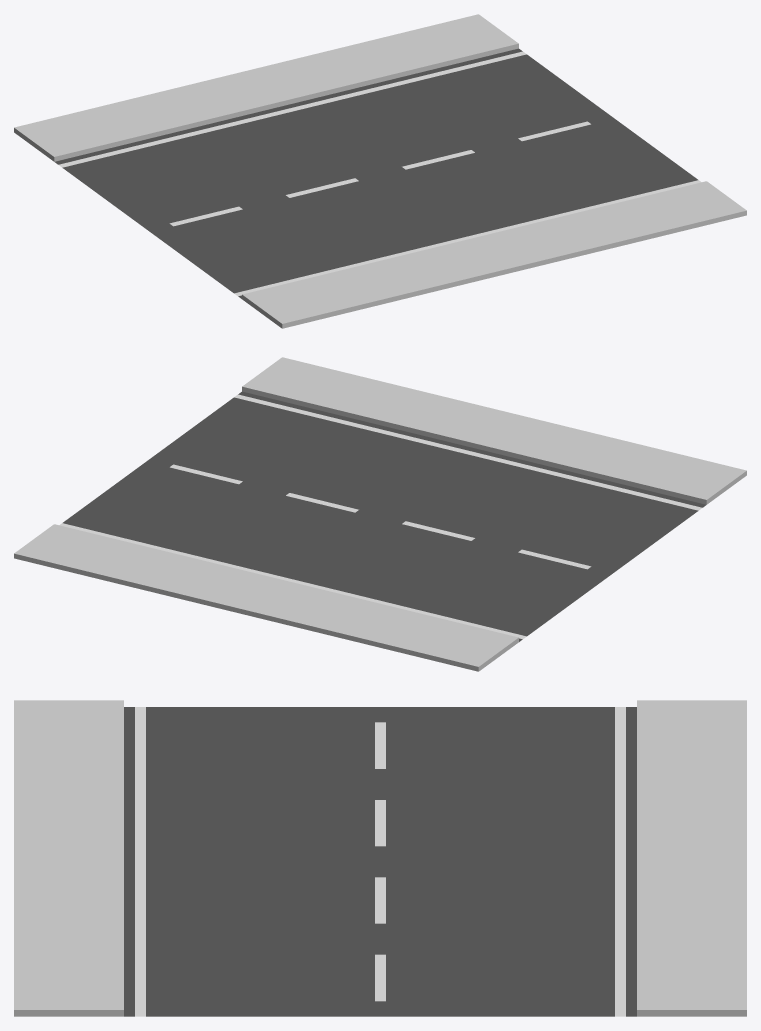
The model's file is SPW_Urban_Road 2way_02.gltf.
3 views of the same model, one above another, from view 1: azimuth 30°, elevation 25°; view 2: azimuth 150°, elevation 25°; view 3: azimuth 270°, elevation 25° (orthographic). The views are drawn at different scales.
Visible parts, largest first — view 1: SPW_Urban_Road_2way_02; view 2: SPW_Urban_Road_2way_02; view 3: SPW_Urban_Road_2way_02.
Part boxes in pixels (x1,y1,x2,y2): SPW_Urban_Road_2way_02: [14, 14, 746, 328]; SPW_Urban_Road_2way_02: [14, 357, 746, 671]; SPW_Urban_Road_2way_02: [14, 700, 746, 1016].
Size of the model in its own units: 787 by 7.87 by 787.
Materials: 1 (1 with a texture image).
